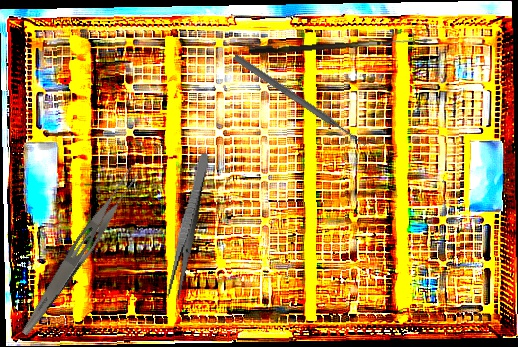Dressing Forceps: (17, 164, 144, 342), (164, 150, 212, 302)
Hook Surgical: (248, 31, 433, 57)
Pusher: (231, 52, 369, 150)
